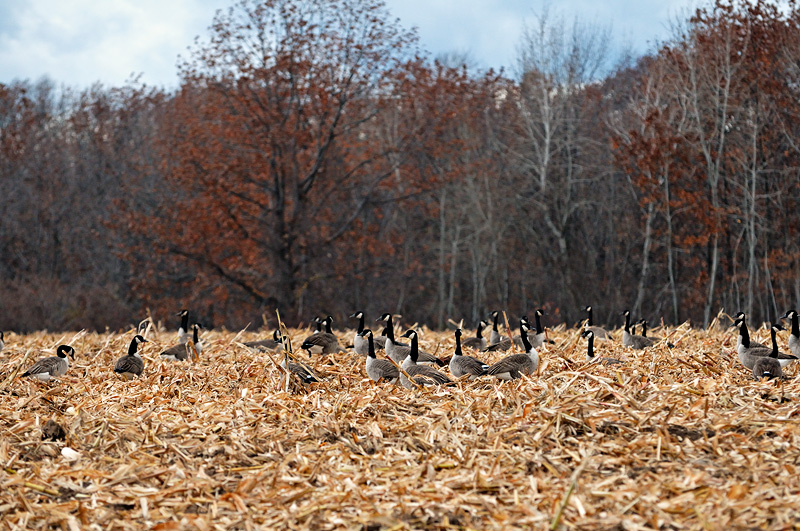goose: (398, 328, 453, 392), (731, 321, 798, 372), (375, 312, 439, 364), (486, 325, 541, 381), (272, 335, 323, 388), (17, 343, 77, 387), (355, 329, 400, 384), (752, 322, 788, 380), (449, 326, 486, 381), (159, 321, 206, 363), (345, 310, 388, 351), (112, 333, 150, 379), (300, 315, 339, 358), (579, 330, 624, 365), (618, 308, 653, 352), (492, 315, 530, 355), (236, 326, 285, 353), (731, 310, 764, 348), (582, 305, 613, 340), (779, 310, 800, 361), (460, 319, 489, 350), (528, 307, 549, 344), (485, 309, 507, 341), (174, 308, 191, 342), (639, 317, 648, 337), (310, 315, 321, 331), (629, 317, 636, 337)
